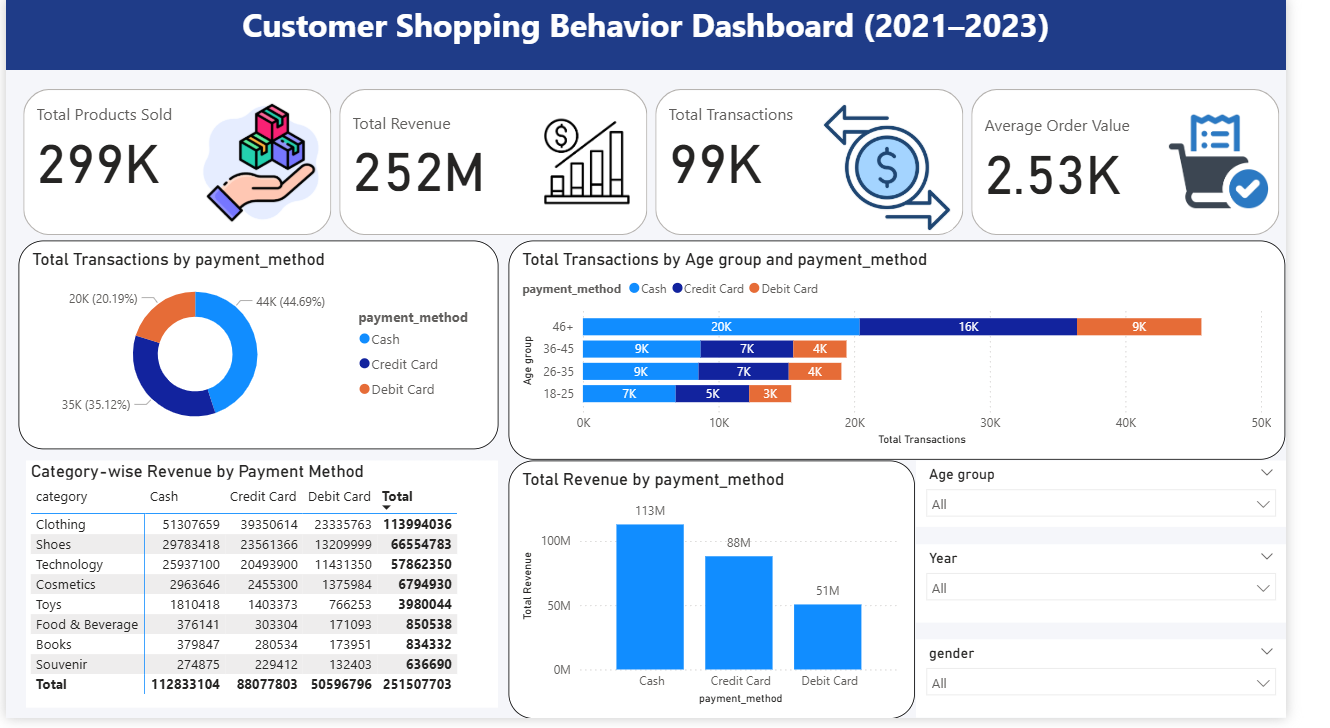

What the dashboard file says about the page in this screenshot:
{"tool":"powerbi","page":{"name":"Payment Method Analysis","canvas":[1280,720],"ordinal":4},"visuals":[{"type":"textbox","box":[0,0,1280,72.4],"z":0},{"type":"cardVisual","fields":{"Data":["country_deatils_datasets.Total Products Sold","country_deatils_datasets.Total Revenue","country_deatils_datasets.Total Transactions","country_deatils_datasets.Average Order Value"]},"box":[12.1,85.7,1268,156.8],"z":1000},{"type":"donutChart","fields":{"Category":["country_deatils_datasets.payment_method"],"Y":["country_deatils_datasets.Total Transactions"]},"box":[12.1,242.5,480.2,208.7],"z":1001},{"type":"clusteredColumnChart","fields":{"Category":["country_deatils_datasets.payment_method"],"Y":["country_deatils_datasets.Total Revenue"]},"box":[503.1,462.1,406.6,258.2],"z":1002},{"type":"barChart","fields":{"Category":["country_deatils_datasets.Age group"],"Series":["country_deatils_datasets.payment_method"],"Y":["country_deatils_datasets.Total Transactions"]},"box":[503.1,242.5,776.9,219.6],"z":1003},{"type":"pivotTable","title":"Category-wise Revenue by Payment Method","fields":{"Rows":["country_deatils_datasets.category"],"Columns":["country_deatils_datasets.payment_method"],"Values":["country_deatils_datasets.Total Revenue"]},"box":[20.5,462.1,471.7,247.3],"z":1004},{"type":"slicer","fields":{"Values":["country_deatils_datasets.Age group"]},"box":[910,462.5,370,66.2],"z":1005},{"type":"slicer","fields":{"Values":["country_deatils_datasets.Year"]},"box":[910,546.2,370,78.8],"z":1006},{"type":"slicer","fields":{"Values":["country_deatils_datasets.gender"]},"box":[910,641.2,370,78.8],"z":1007}]}

Visuals, with their boxes in screenshot pixels (x1, y1, x2, y2), scaled from the page's 1280x720 canvas onto the 1330x728 screenshot:
textbox: <bbox>0, 0, 1329, 73</bbox>
cardVisual - country_deatils_datasets.Total Products Sold x country_deatils_datasets.Total Revenue: <bbox>13, 87, 1329, 245</bbox>
donutChart - country_deatils_datasets.payment_method x country_deatils_datasets.Total Transactions: <bbox>13, 245, 512, 456</bbox>
clusteredColumnChart - country_deatils_datasets.payment_method x country_deatils_datasets.Total Revenue: <bbox>523, 467, 945, 727</bbox>
barChart - country_deatils_datasets.Age group x country_deatils_datasets.payment_method: <bbox>523, 245, 1329, 467</bbox>
"Category-wise Revenue by Payment Method" pivotTable: <bbox>21, 467, 511, 717</bbox>
slicer - country_deatils_datasets.Age group: <bbox>946, 468, 1329, 535</bbox>
slicer - country_deatils_datasets.Year: <bbox>946, 552, 1329, 632</bbox>
slicer - country_deatils_datasets.gender: <bbox>946, 648, 1329, 727</bbox>
